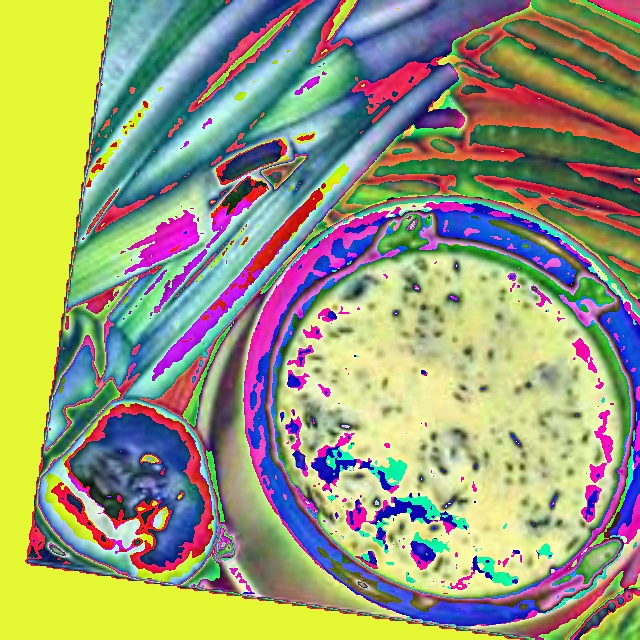background: (33, 0, 639, 585), (77, 55, 639, 639), (265, 208, 637, 594)
